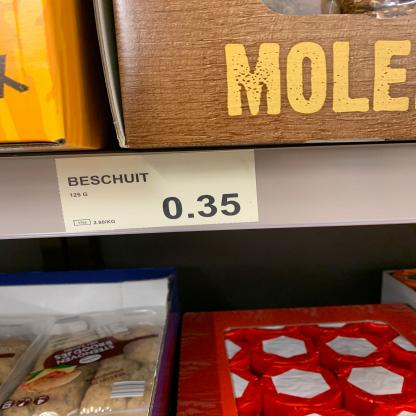prtg: (56, 150, 260, 235)
